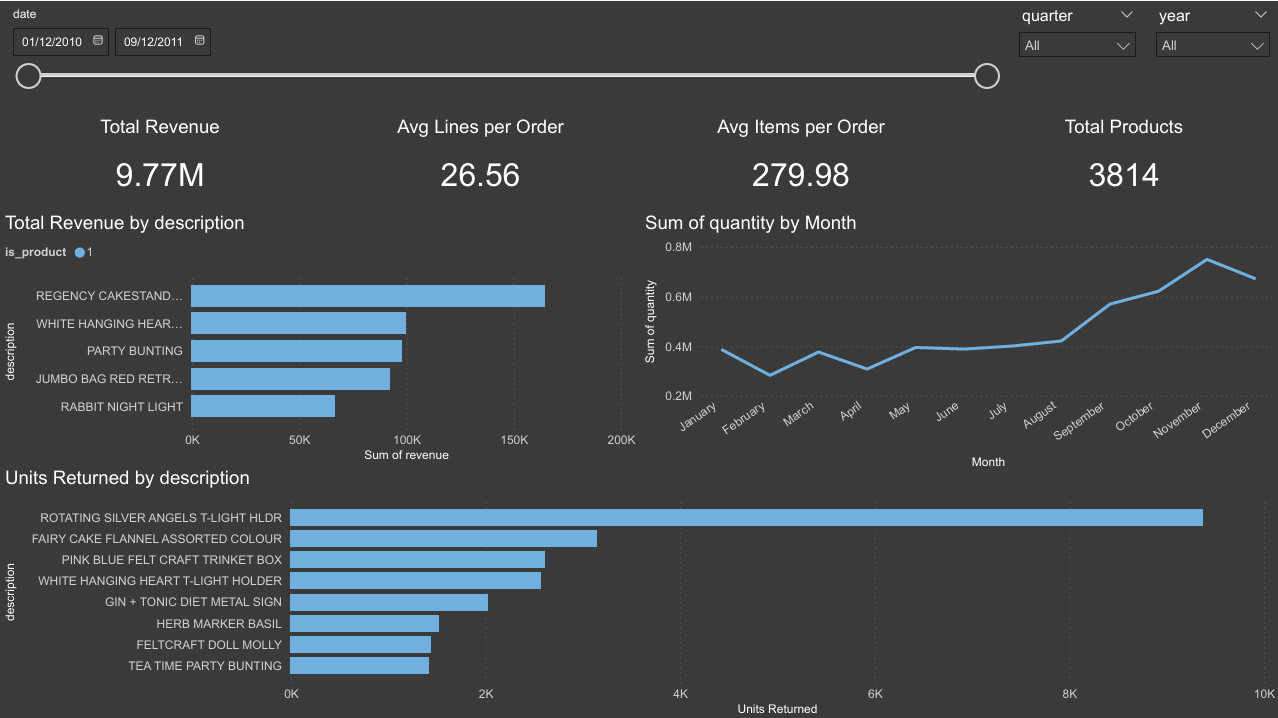

The page's visual inventory and layout, read from the dashboard file:
{"tool":"powerbi","page":{"name":"Product Analysis","canvas":[1280,720],"ordinal":1},"visuals":[{"type":"clusteredBarChart","title":"Total Revenue by description","fields":{"Category":["online_retail vw_dim_product.description"],"Y":["Sum(online_retail vw_fact_orders.revenue)"],"Series":["online_retail vw_dim_product.is_product"]},"box":[0,210.4,640.5,255],"z":0},{"type":"clusteredBarChart","fields":{"Category":["online_retail vw_dim_product.description"],"Y":["online_retail vw_dim_product.Units Returned"]},"box":[0,465.4,1280,253.9],"z":1000},{"type":"slicer","fields":{"Values":["online_retail dim_date.date"]},"box":[0,0,1008.4,114.2],"z":2000},{"type":"slicer","fields":{"Values":["online_retail dim_date.quarter"]},"box":[1008.6,0,137.1,113.8],"z":3000},{"type":"slicer","fields":{"Values":["online_retail dim_date.year"]},"box":[1145.8,0,134.2,113.8],"z":4000},{"type":"card","title":"Avg Lines per Order","fields":{"Values":["online_retail vw_dim_product.Avg Lines per Order"]},"box":[320.3,114,320.3,96.4],"z":5000},{"type":"card","title":"Avg Items per Order","fields":{"Values":["online_retail vw_dim_product.Avg Items per Order"]},"box":[640.5,114,320.3,96.4],"z":6000},{"type":"card","title":"Total Products","fields":{"Values":["online_retail vw_dim_product.Total Products"]},"box":[968,114,312,96.4],"z":7000},{"type":"lineChart","fields":{"Y":["Sum(online_retail vw_fact_orders.quantity)"],"Category":["online_retail dim_date.year_month.Variation.Date Hierarchy.Month"]},"box":[640.1,210.1,640.1,262.1],"z":8000},{"type":"card","title":"Total Revenue","fields":{"Values":["Sum(online_retail vw_fact_orders.revenue)"]},"box":[0,114,320.5,96.1],"z":9000}]}

Visuals, with their boxes in screenshot pixels (x1, y1, x2, y2), scaled from the page's 1280x720 canvas onto the 1278x718 screenshot:
"Total Revenue by description" clusteredBarChart: locate(0, 210, 639, 464)
clusteredBarChart - online_retail vw_dim_product.description x online_retail vw_dim_product.Units Returned: locate(0, 464, 1277, 717)
slicer - online_retail dim_date.date: locate(0, 0, 1007, 114)
slicer - online_retail dim_date.quarter: locate(1007, 0, 1144, 113)
slicer - online_retail dim_date.year: locate(1144, 0, 1277, 113)
"Avg Lines per Order" card: locate(320, 114, 640, 210)
"Avg Items per Order" card: locate(639, 114, 959, 210)
"Total Products" card: locate(966, 114, 1277, 210)
lineChart - Sum(online_retail vw_fact_orders.quantity) x online_retail dim_date.year_month.Variation.Date Hierarchy.Month: locate(639, 210, 1277, 471)
"Total Revenue" card: locate(0, 114, 320, 210)
